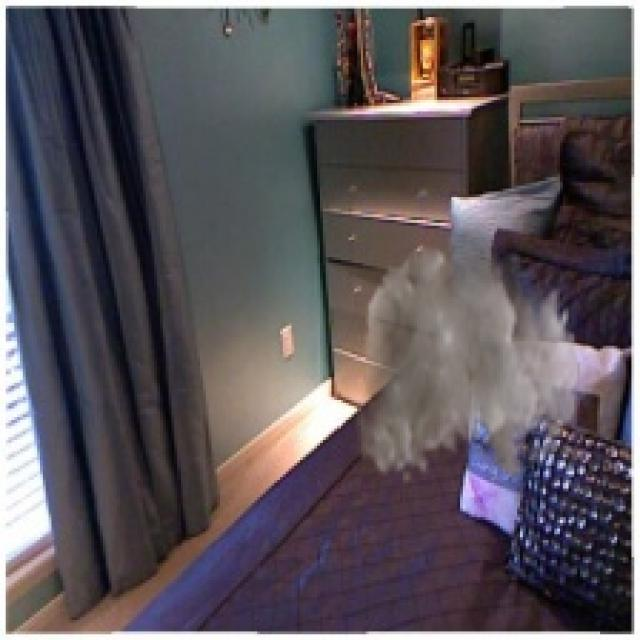Smoke: (354, 214, 580, 486)
